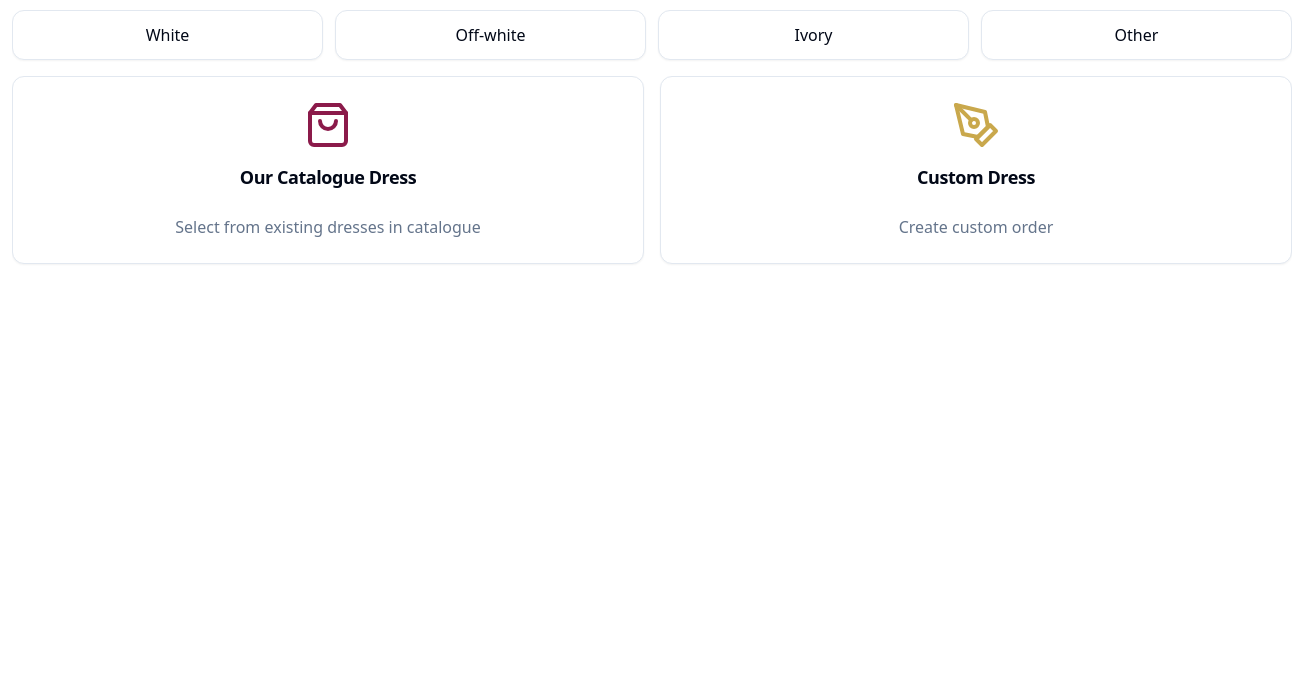
it: Section2DressSelect › should filter products by occasion
Step 1. Click the text "Our Catalogue Dress" → (328, 177), box [240,165,416,189]
(page scrolled)
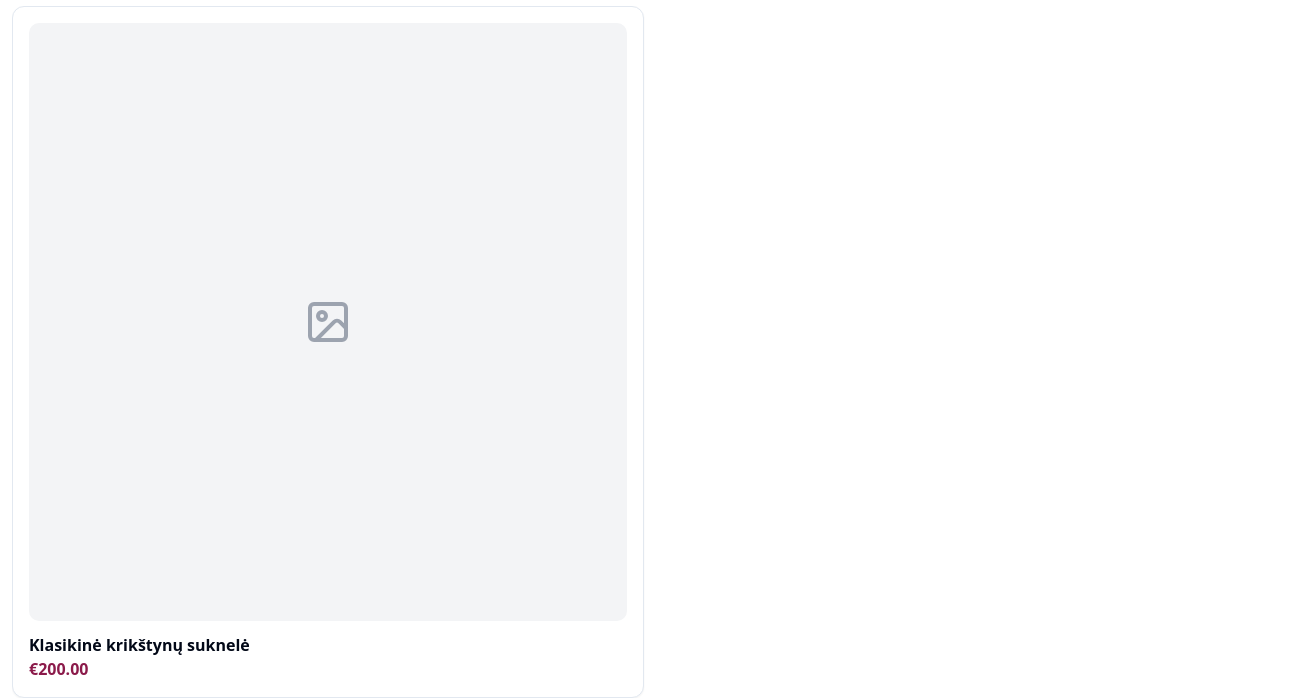
Check: the heading "Klasikinė krikštynų suknelė" is shown, box [29,634,250,656]
